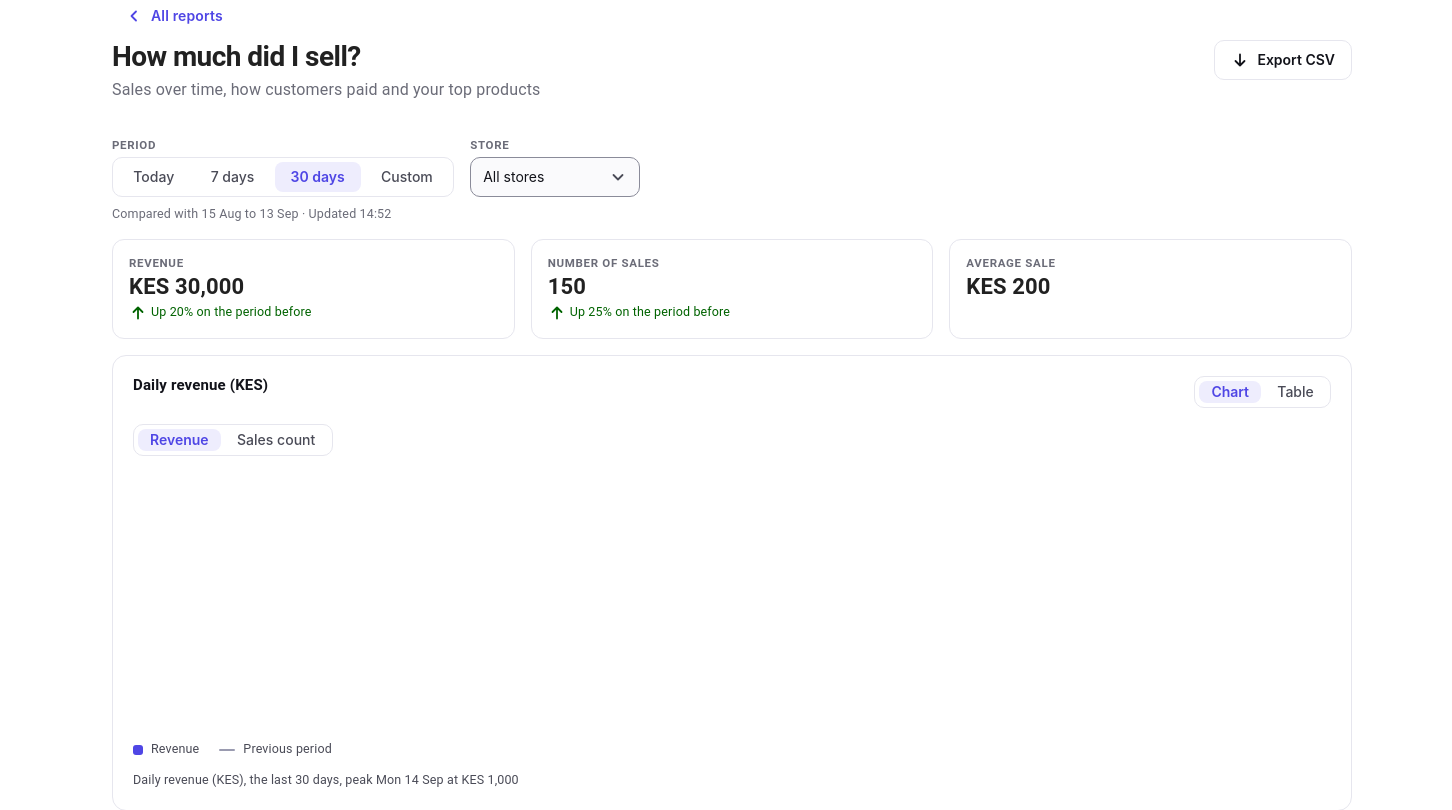
it opens ready (AC-31) › choosing 7 days asks again for 7 days and keeps the choice in the address
Expected: the text "KES 30,000" is shown, [129,274,244,299]
What coordinates should you click on to do the following:
click the radio button labelled "7 days"
I would click on:
 (233, 176)
Its box is [194,162,271,192].
(page scrolled)
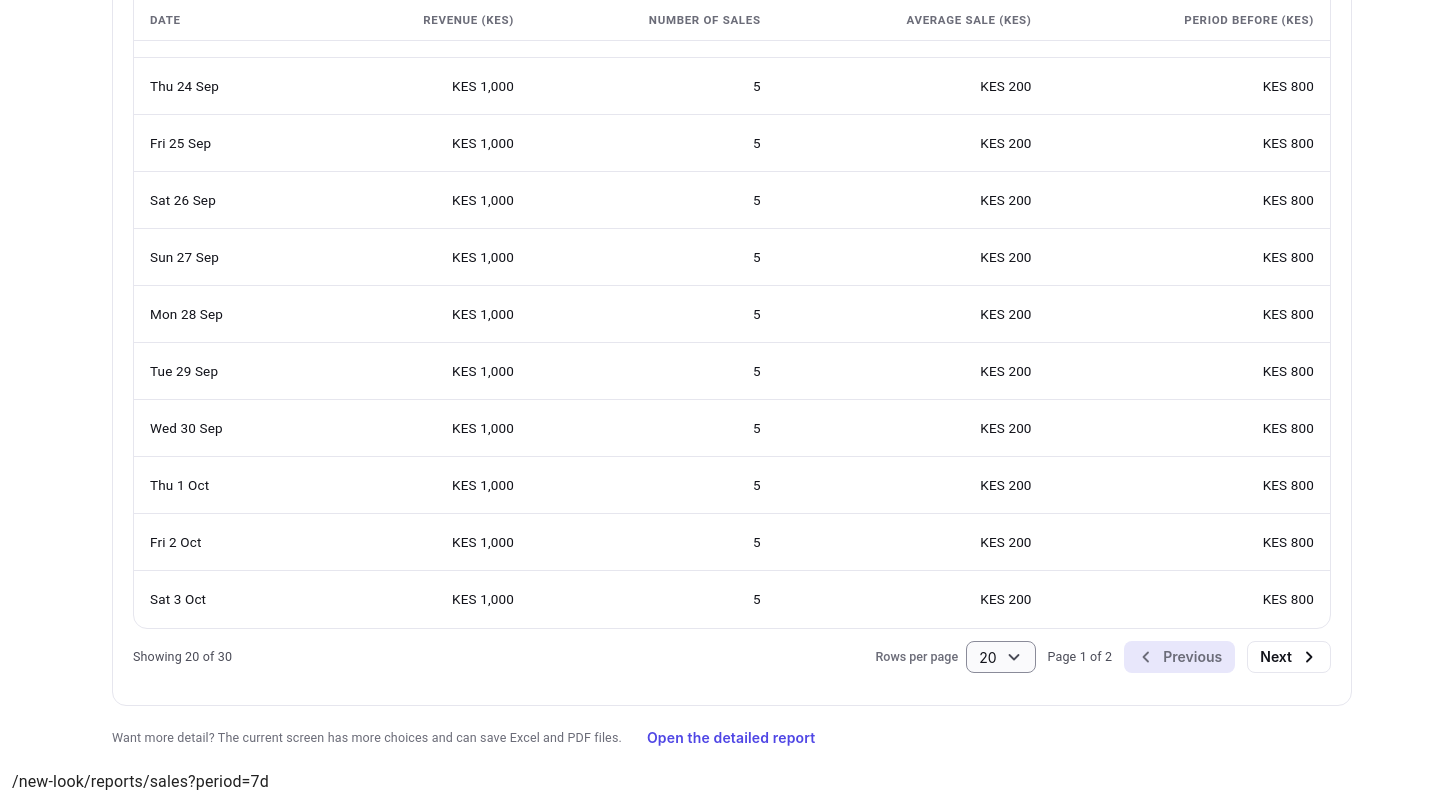
Expected: the text with test id "where" shows "period=7d", [12,772,269,791]
